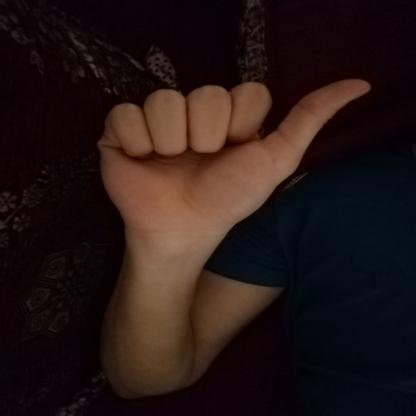DAD: (82, 66, 387, 243)
